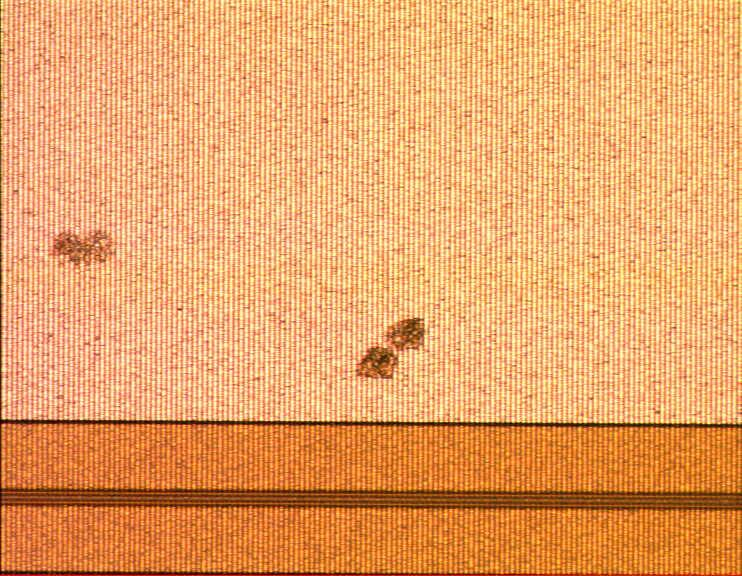SCRATCH: (33, 226, 442, 409)
